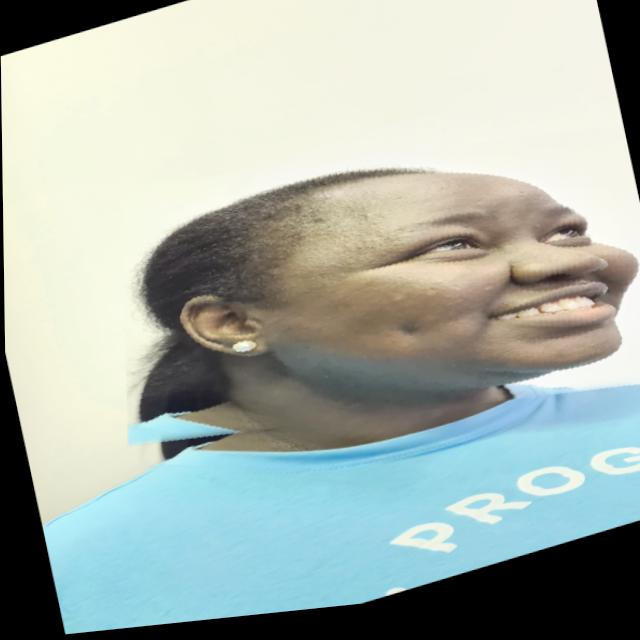happy: (86, 71, 640, 516)
